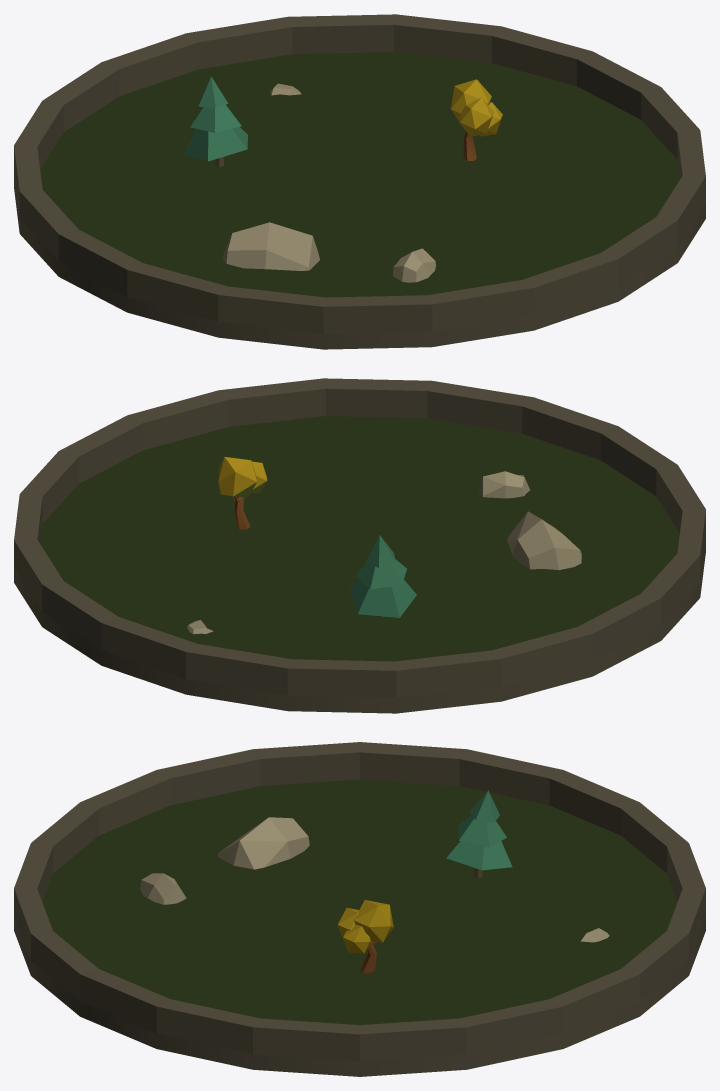
Rendered from escenario2v3.fbx.
The picture shows the model from 3 angles, top to bottom: view 1: azimuth 30°, elevation 25°; view 2: azimuth 150°, elevation 25°; view 3: azimuth 270°, elevation 25°; orthographic projection.
Parts seen in each view (by area): view 1: pCylinder9, Rock12, Tree_32, Tree_33, Rock11; view 2: pCylinder9, Tree_32, Rock12, Tree_33, Rock11; view 3: pCylinder9, Rock12, Tree_32, Tree_33, Rock11.
Boxes of the visible parts, bbox=[...] form: pCylinder9: bbox=[14, 14, 705, 349]; Rock12: bbox=[223, 222, 319, 270]; Tree_32: bbox=[184, 76, 247, 166]; Tree_33: bbox=[451, 79, 502, 160]; Rock11: bbox=[393, 248, 435, 282]; pCylinder9: bbox=[14, 378, 705, 713]; Tree_32: bbox=[349, 535, 416, 617]; Rock12: bbox=[507, 511, 581, 570]; Tree_33: bbox=[218, 457, 267, 530]; Rock11: bbox=[477, 471, 529, 498]; pCylinder9: bbox=[14, 742, 705, 1076]; Rock12: bbox=[218, 817, 309, 869]; Tree_32: bbox=[446, 790, 512, 878]; Tree_33: bbox=[337, 900, 393, 973]; Rock11: bbox=[140, 873, 186, 904].
Size of the model in its own units: 2688 by 458 by 2688.
